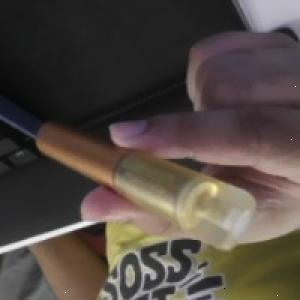Golden-E-Ciggirate: (32, 119, 257, 256)
